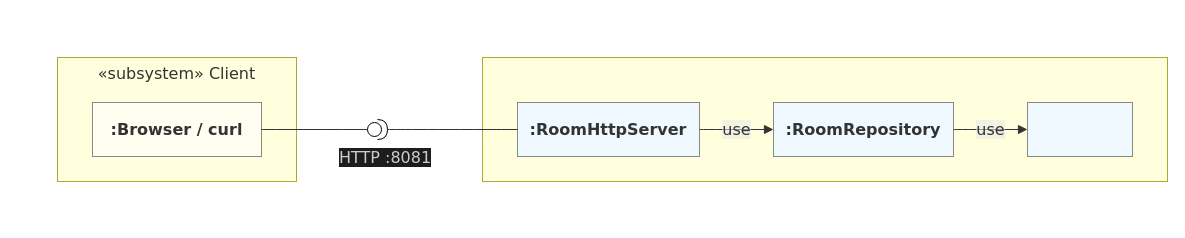
The diagram is 1185 pixels wide and 238 high, and some of its shapes have lost their labels. The shapes that lost their labels are listed below. From the top down, each one's box as (x1, y1, x2, y2) in pixels, then its label:
(482, 56, 1168, 182): «subsystem» RoomHttpServer
(1026, 102, 1132, 156): :Room
